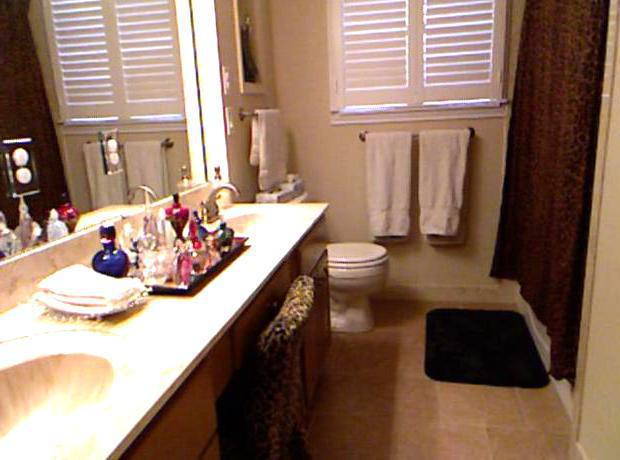Ducha: (486, 1, 613, 422)
Lavamanos: (0, 315, 140, 455)
Sanitario: (250, 173, 389, 335)
